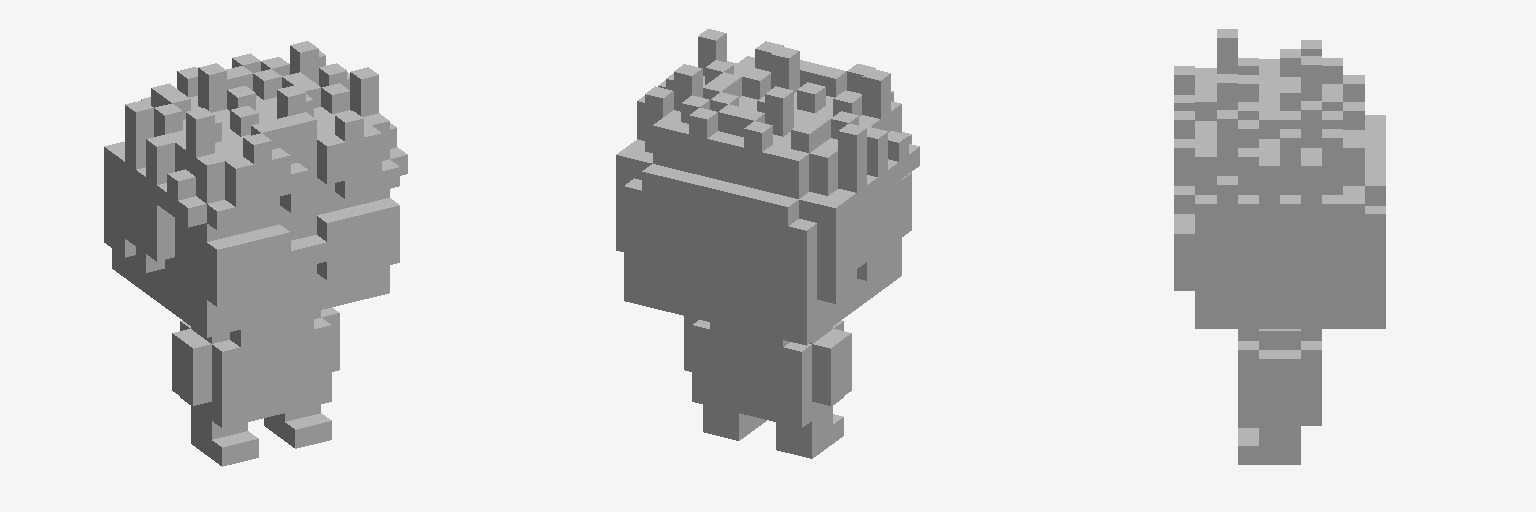
The model's file is johan.obj.
The picture shows the model from 3 angles: view 1: azimuth 30°, elevation 25°; view 2: azimuth 150°, elevation 25°; view 3: azimuth 270°, elevation 25°; orthographic projection.
Bounding box in the file's own units: 12 × 19 × 10.